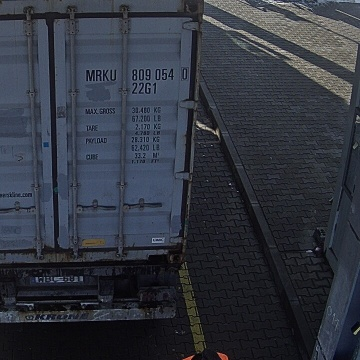serial_id: (86, 68, 188, 81)
